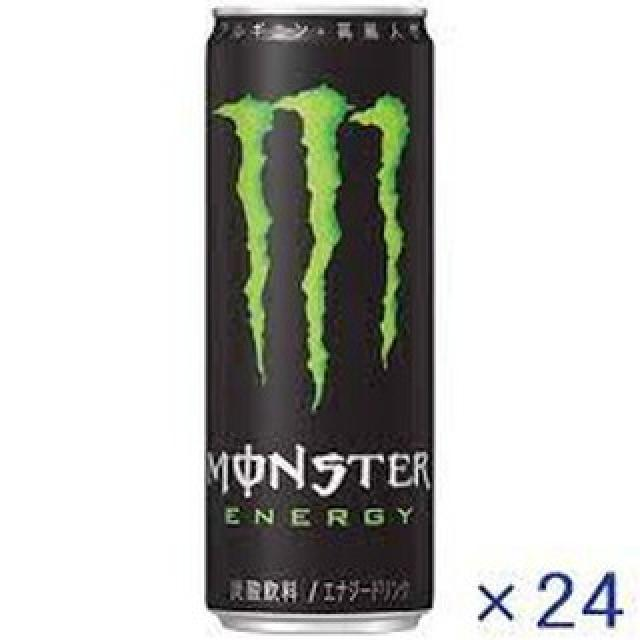can: (204, 5, 436, 635)
